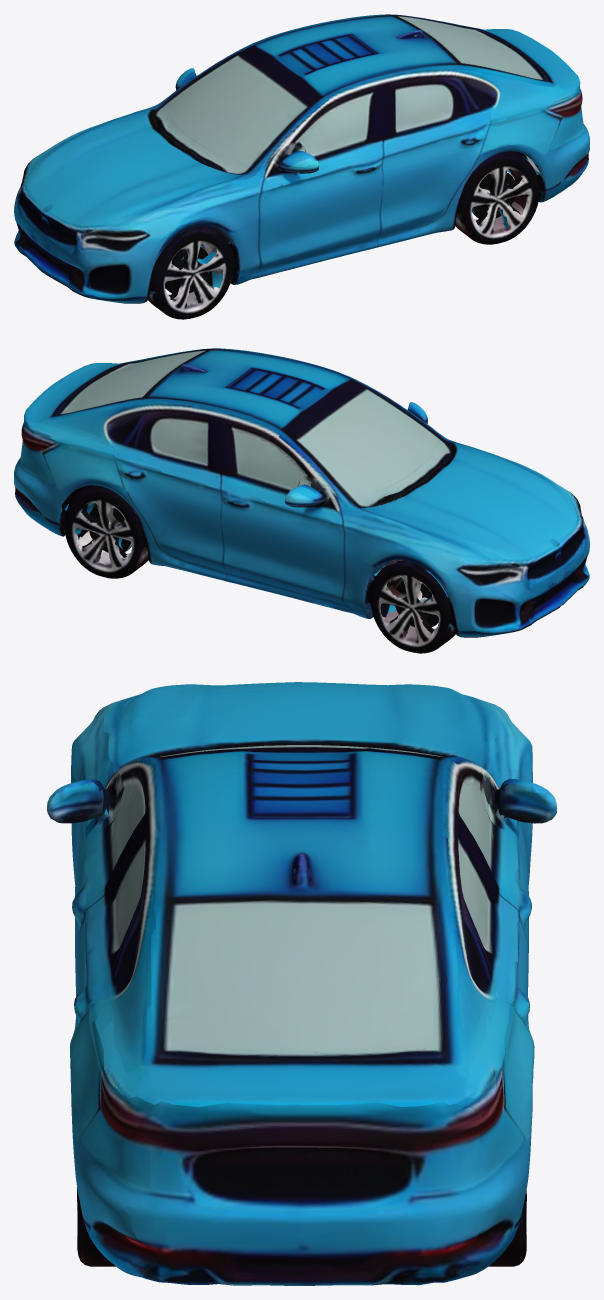
Rendered from car.fbx.
3 views of the same model, one above another, from view 1: azimuth 30°, elevation 25°; view 2: azimuth 150°, elevation 25°; view 3: azimuth 270°, elevation 25° (orthographic). The views are drawn at different scales.
Visible parts, largest first — view 1: tmpnc9p4z82.ply; view 2: tmpnc9p4z82.ply; view 3: tmpnc9p4z82.ply.
Boxes of the visible parts, <box> form: tmpnc9p4z82.ply: <box>14,14,589,319</box>; tmpnc9p4z82.ply: <box>14,348,589,653</box>; tmpnc9p4z82.ply: <box>47,682,556,1285</box>.
Bounding box in the file's own units: 199 × 66.7 × 85.15.
1 material, 1 textured.
